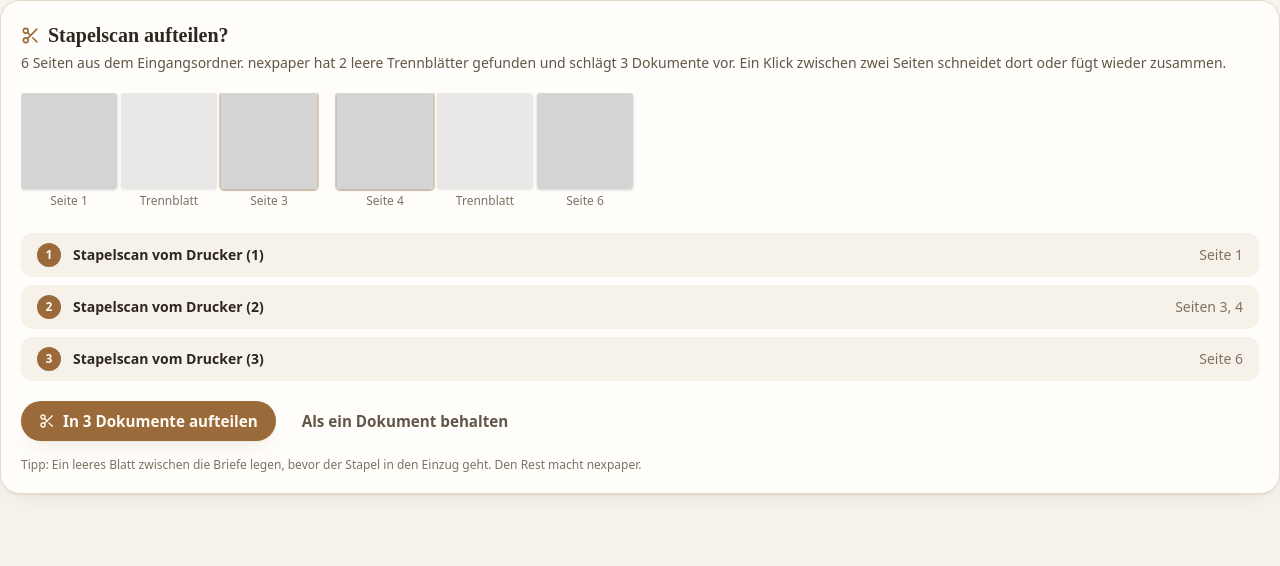
it: splitting a batch scan › shows what the server refused
Click the button "In 3 Dokumente aufteilen": (148, 421) [21,401,276,441]
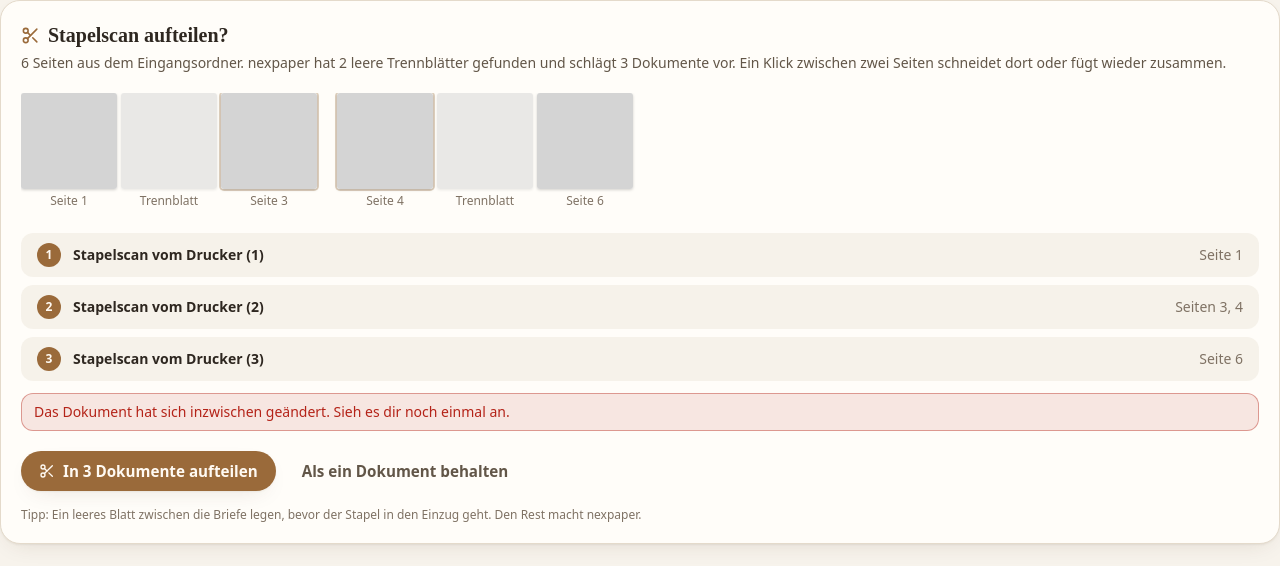
Expected: the text "Das Dokument hat sich inzwischen geändert." is shown, [34,402,510,421]
